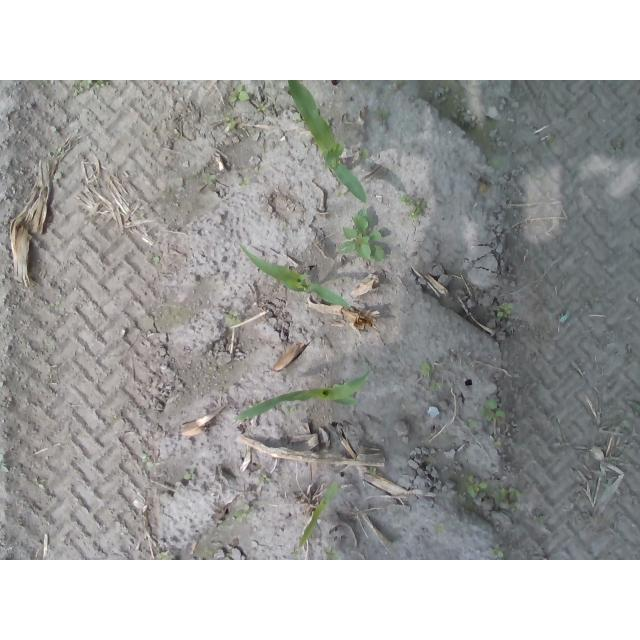Maize: (285, 85, 382, 214), (246, 247, 358, 313)
